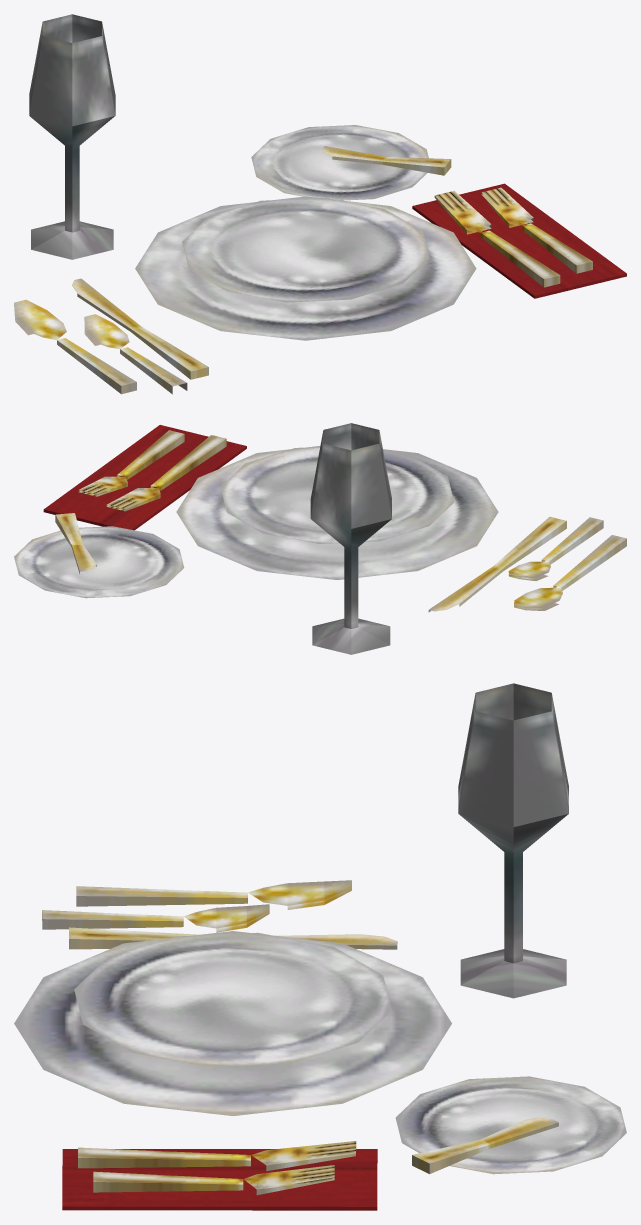
Rendered from placesetting2.fbx.
3 renders of one model, top to bottom at view 1: azimuth 30°, elevation 25°; view 2: azimuth 150°, elevation 25°; view 3: azimuth 270°, elevation 25°, orthographic. The views are drawn at different scales.
Parts seen in each view (by area): view 1: mesh_1, mesh_0; view 2: mesh_1, mesh_0; view 3: mesh_1, mesh_0.
Part boxes in pixels (x1,y1,x2,y2): mesh_1: (14,125,626,394); mesh_0: (29,14,115,259); mesh_1: (14,425,626,612); mesh_0: (310,423,391,654); mesh_1: (14,880,626,1210); mesh_0: (458,683,568,998).
Bounding box in the file's own units: 67.53 × 26.79 × 54.61.
Materials: 1 (1 with a texture image).
